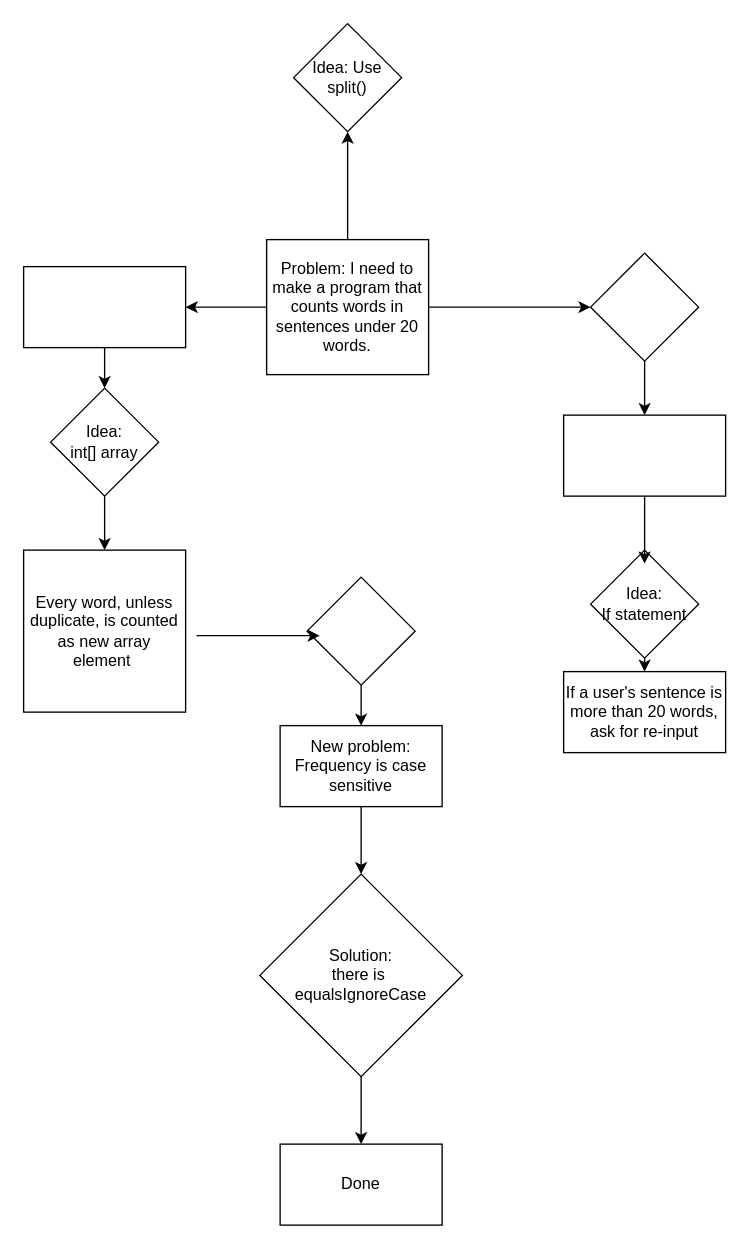
Some shapes in this 749 by 1249 pixel diagram are drawn without their labels. The centre of each missing label's shape, as x and y in pixels:
"How to count word in frequency?" goes at point (104, 306).
"Idea: Scanner" goes at point (644, 306).
"Realization: no int array needed" goes at point (360, 630).
"Restrict to 20 words or less. How?" goes at point (644, 455).
